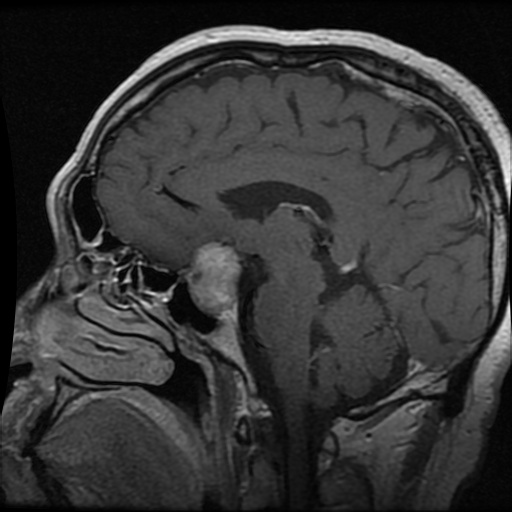pituitary: (187, 242, 238, 311)
